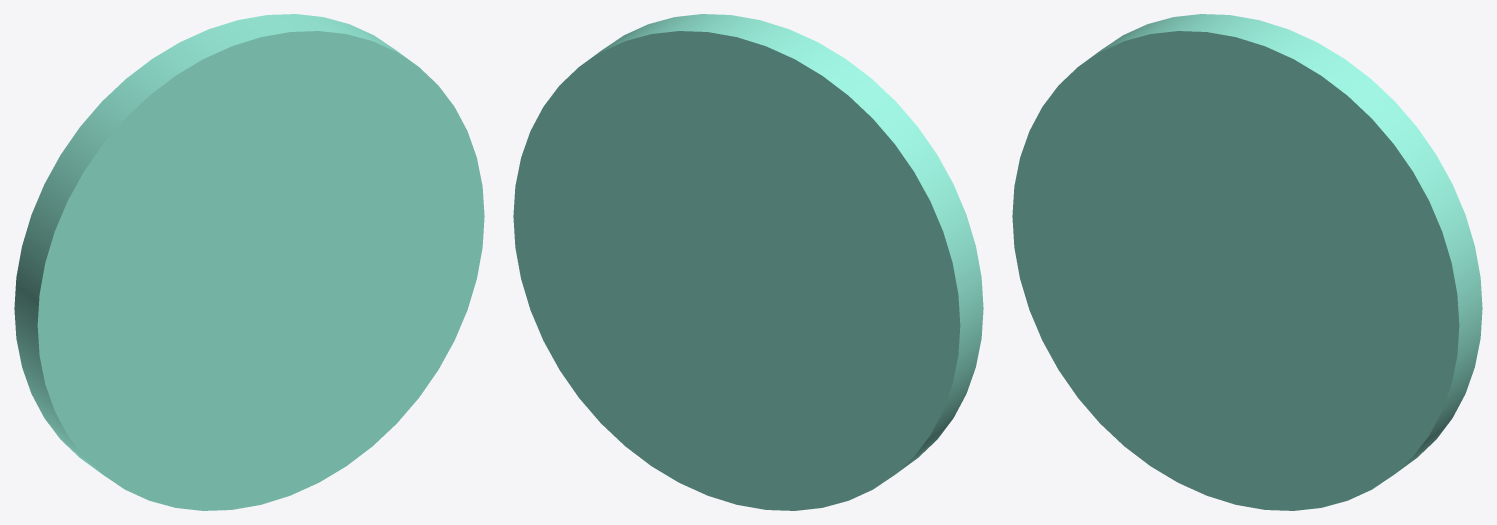
Rendered from badge_alien.glb.
3 renders of one model, left to right at view 1: azimuth 30°, elevation 25°; view 2: azimuth 150°, elevation 25°; view 3: azimuth 330°, elevation 25°, orthographic.
Visible parts, largest first — view 1: badge; view 2: badge; view 3: badge.
Boxes of the visible parts, x1=… form: badge: x1=14, y1=14, x2=484, y2=510; badge: x1=513, y1=14, x2=983, y2=510; badge: x1=1012, y1=14, x2=1482, y2=510.
Bounding box in the file's own units: 2 × 2 × 0.18.
